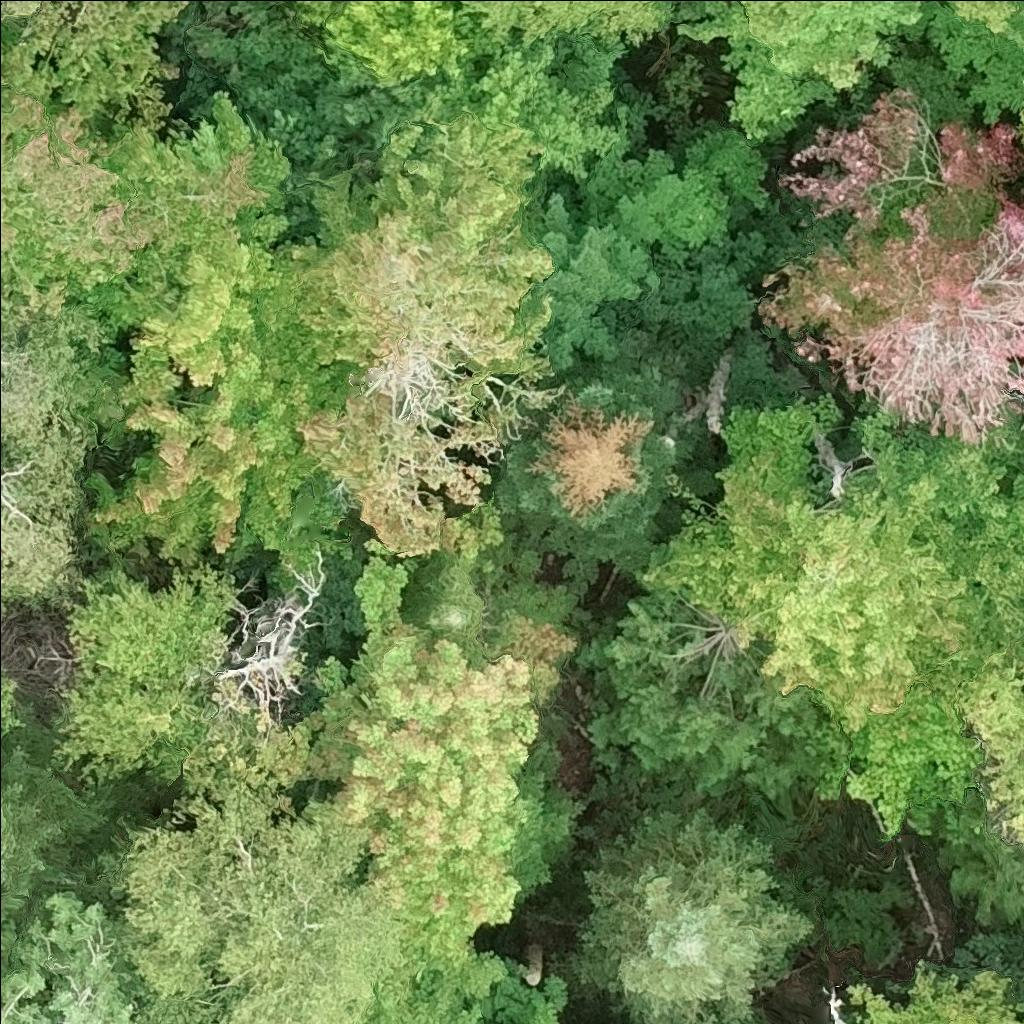crown: (639, 403, 1023, 830), (298, 113, 563, 562), (293, 557, 576, 967), (0, 0, 287, 388), (86, 241, 353, 589), (765, 93, 1023, 445), (124, 699, 401, 1023), (577, 811, 811, 1023), (585, 596, 829, 799), (496, 364, 681, 590), (54, 564, 228, 780), (676, 0, 922, 142), (0, 312, 92, 623), (0, 889, 141, 1023), (213, 567, 326, 710), (0, 753, 105, 905), (960, 651, 1023, 844), (398, 552, 491, 673), (479, 0, 665, 47), (852, 971, 1020, 1023), (479, 959, 565, 1023), (0, 897, 30, 983), (954, 0, 1020, 34), (0, 668, 26, 738), (745, 1002, 769, 1023), (708, 998, 727, 1023), (8, 0, 33, 12), (1018, 111, 1023, 141)
